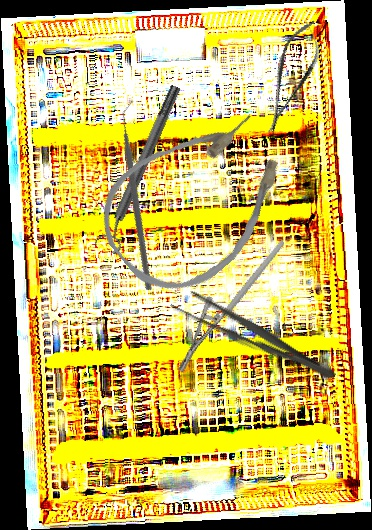Cannula: (80, 87, 315, 315)
Chopper: (46, 98, 235, 293)
Dressing Forceps: (167, 284, 342, 389)
Fixation Ring: (91, 81, 191, 256)
Micro Scissor: (250, 13, 332, 141)
Needle Holder: (149, 239, 314, 375)
